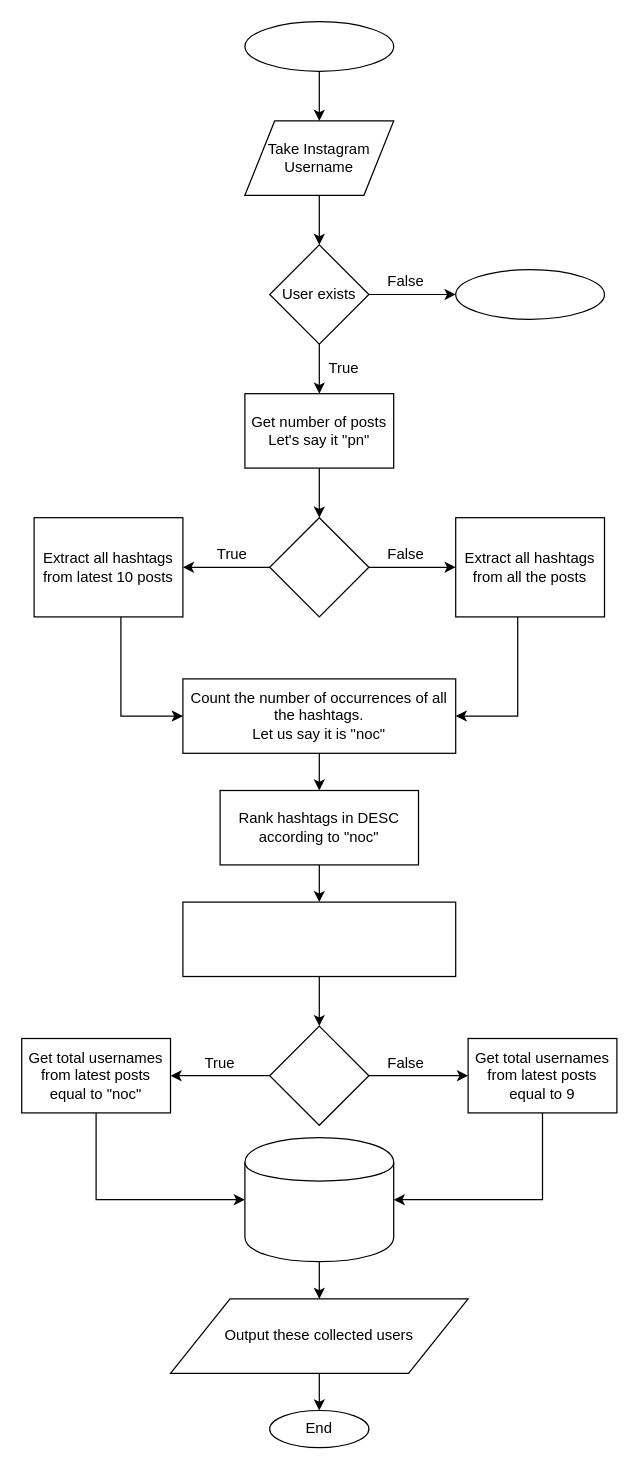
The diagram is 639 pixels wide and 1469 high, and some of its shapes have lost their labels. Here are the shapes that lost their labels. From the top down, the centre of each, then its label:
(x=319, y=45): Start
(x=529, y=293): Terminate
(x=318, y=566): pn >= 10
(x=319, y=938): Fetch "Top Posts" from Instagram for all the hashtags
(x=318, y=1075): noc <= 9
(x=319, y=1199): Gather these all users
